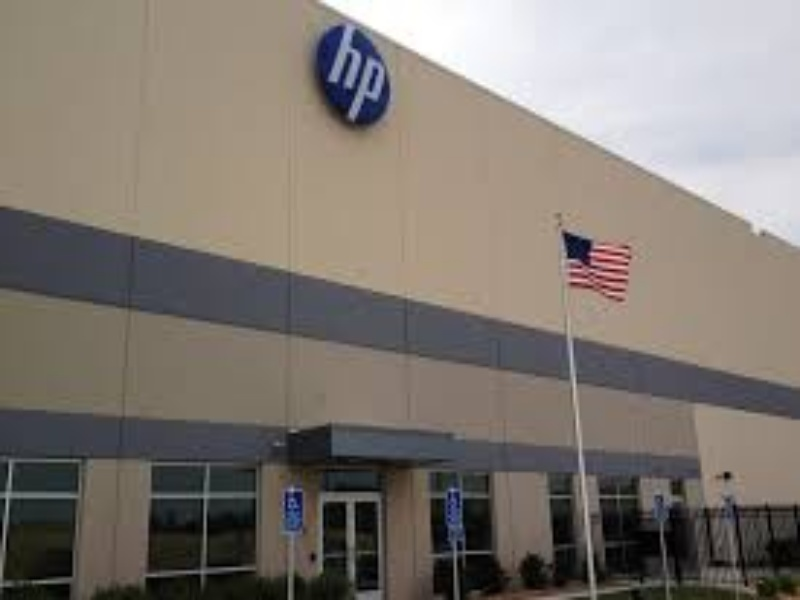hp: (331, 23, 389, 140)
